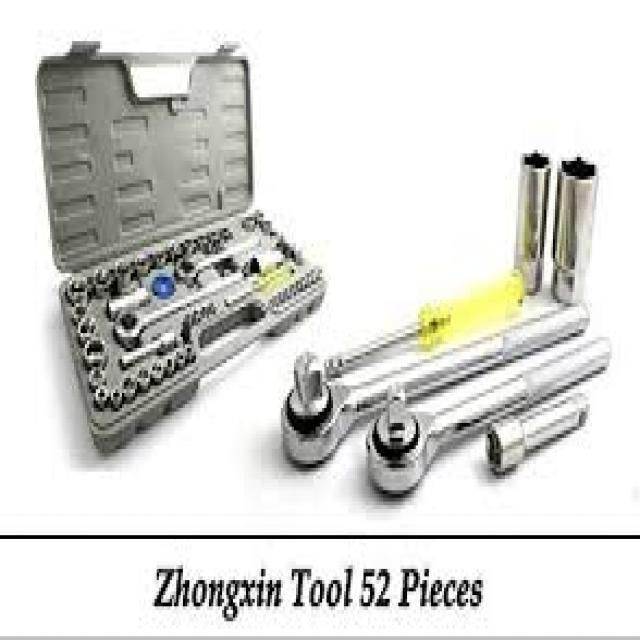screwdriver: (321, 264, 531, 379)
wrench: (273, 298, 596, 470), (358, 332, 616, 506)
